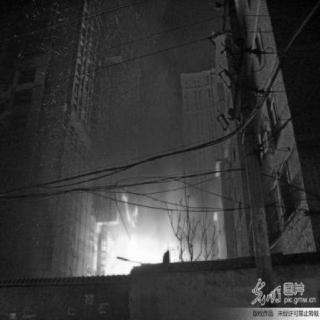Fire: (110, 209, 176, 270)
